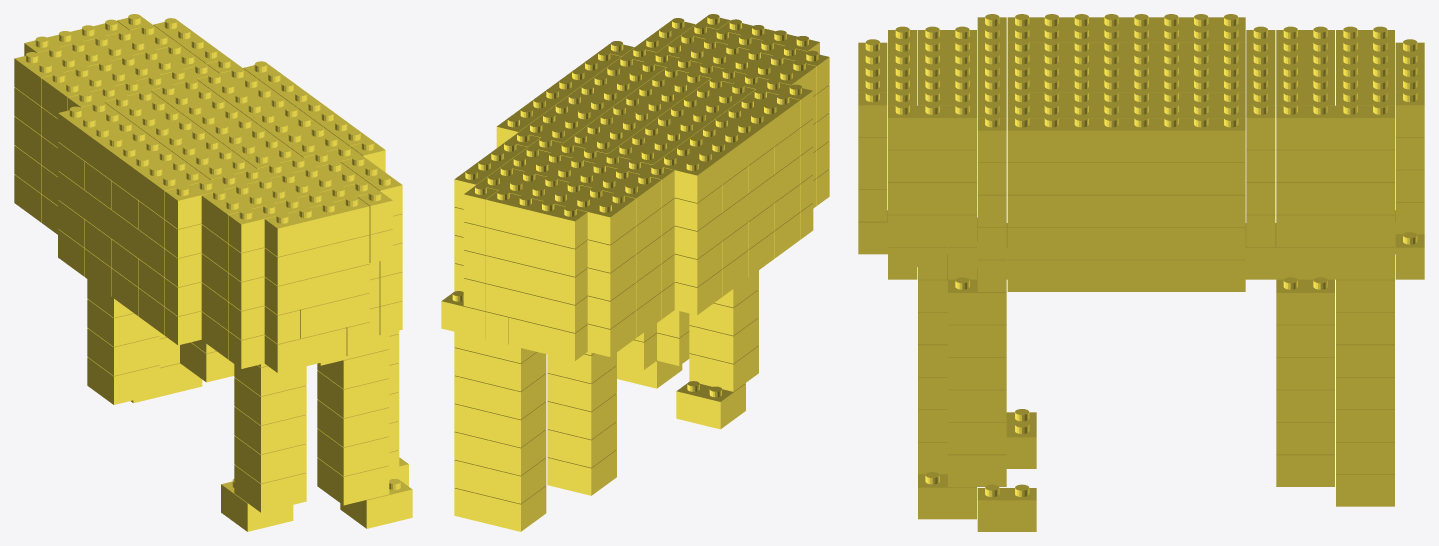
File: raw.glb
The picture shows the model from 3 angles, left to right: view 1: azimuth 30°, elevation 25°; view 2: azimuth 150°, elevation 25°; view 3: azimuth 270°, elevation 25°; orthographic projection. The views are drawn at different scales.
Parts seen in each view (by area): view 1: brickgpt; view 2: brickgpt; view 3: brickgpt.
Boxes of the visible parts, bbox=[...] form: brickgpt: bbox=[14, 14, 412, 531]; brickgpt: bbox=[441, 14, 829, 531]; brickgpt: bbox=[858, 14, 1424, 531].
Size of the model in its own units: 9.98 by 14.61 by 18.98.
